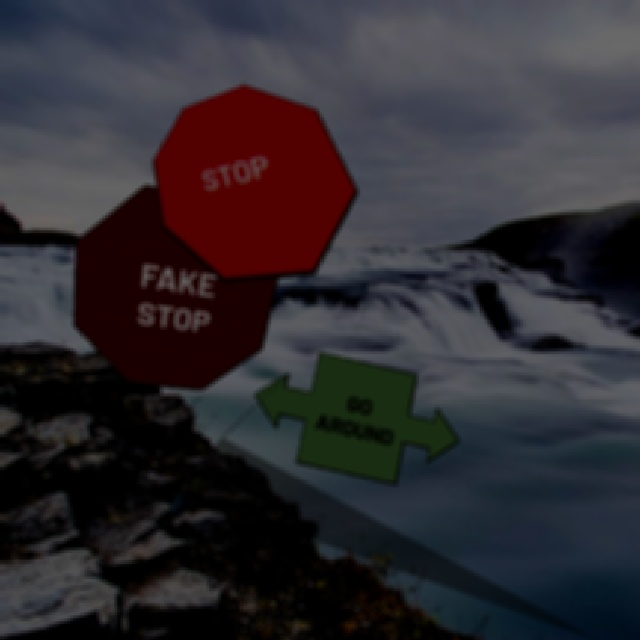FAKE_STOP: (72, 183, 278, 389)
GO_AROUND: (252, 350, 458, 484)
STOP: (151, 83, 357, 281)
